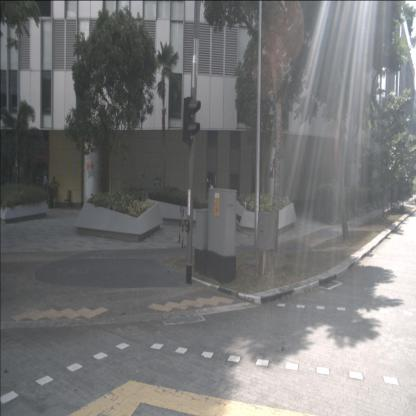human-pedestrian-adult: (48, 177, 56, 209)
